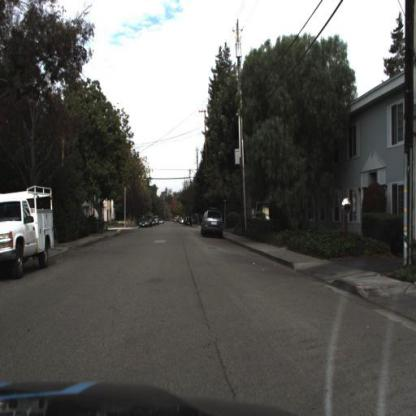car: (200, 206, 225, 242), (138, 215, 150, 231)
truck: (0, 185, 55, 281)
